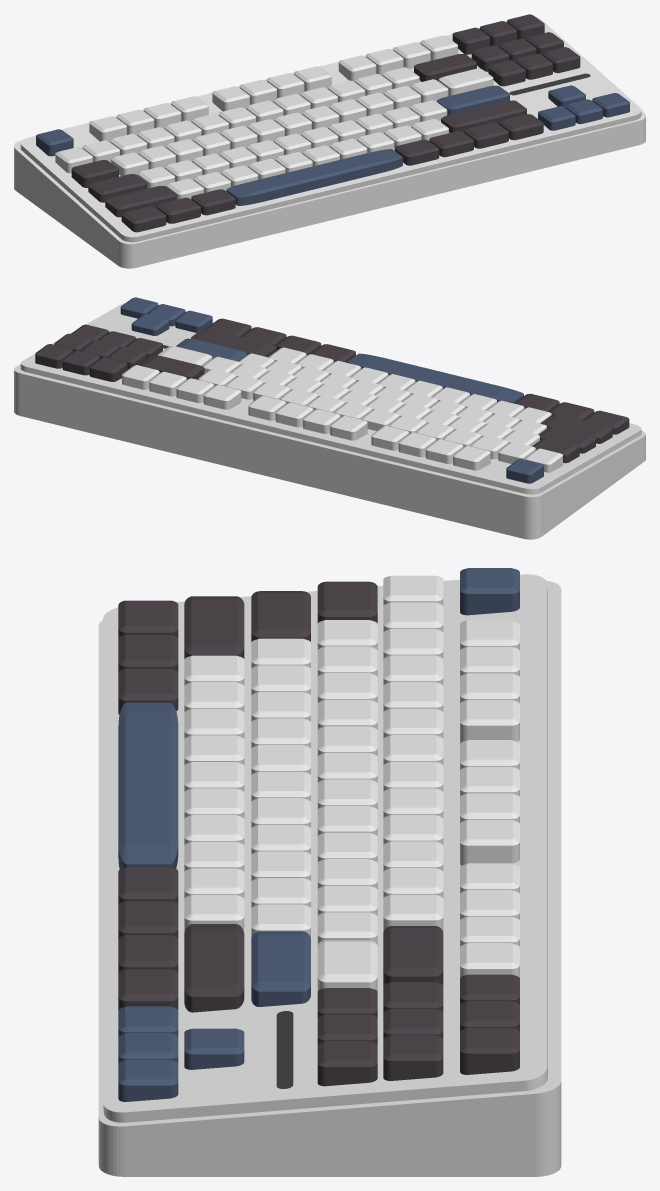
File: Keyboard.fbx
3 views of the same model, one above another, from view 1: azimuth 30°, elevation 25°; view 2: azimuth 150°, elevation 25°; view 3: azimuth 270°, elevation 25° (orthographic). The views are drawn at different scales.
Visible parts, largest first — view 1: Cube, Cube.003, Cube.004, Cube.010, Cube.012, Cube.013, Cube.014, Cube.024, Cube.025, Cube.009, Cube.007, Cube.008 (+15 smaller); view 2: Cube, Cube.003, Cube.004, Cube.010, Cube.012, Cube.014, Cube.013, Cube.007, Cube.009, Cube.008, Cube.024, Cube.025 (+14 smaller); view 3: Cube.004, Cube, Cube.010, Cube.012, Cube.013, Cube.014, Cube.003, Cube.024, Cube.025, Cube.008, Cube.007, Cube.009 (+15 smaller).
Part boxes in pixels (x1,y1,x2,y2): Cube: (14,110,645,268); Cube.003: (14,113,645,262); Cube.004: (20,16,641,242); Cube.010: (55,67,419,173); Cube.012: (111,79,448,175); Cube.013: (137,100,447,188); Cube.014: (166,119,448,199); Cube.024: (226,149,402,205); Cube.025: (394,114,543,165); Cube.009: (338,35,457,81); Cube.007: (89,96,208,141); Cube.008: (212,66,331,111); Cube: (14,364,645,539); Cube.003: (17,368,645,532); Cube.004: (20,303,641,494); Cube.010: (198,368,562,472); Cube.012: (203,356,539,446); Cube.014: (269,347,551,423); Cube.013: (238,353,546,434); Cube.007: (371,426,490,470); Cube.009: (122,365,241,409); Cube.008: (248,396,367,440); Cube.024: (347,353,523,403); Cube.025: (207,318,355,362); Cube.004: (103,574,547,1122); Cube: (98,580,561,1176); Cube.010: (383,575,443,931); Cube.012: (317,620,377,945); Cube.013: (251,638,310,937); Cube.014: (184,655,244,932); Cube.003: (98,581,560,1164); Cube.024: (118,702,178,868); Cube.025: (118,867,178,1010); Cube.008: (460,740,519,865); Cube.007: (460,620,519,743); Cube.009: (460,863,519,977).
Bounding box in the file's own units: 36.5 × 3.75 × 13.9.
